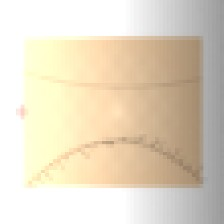corneal_ulcer: (87, 96, 136, 135)
